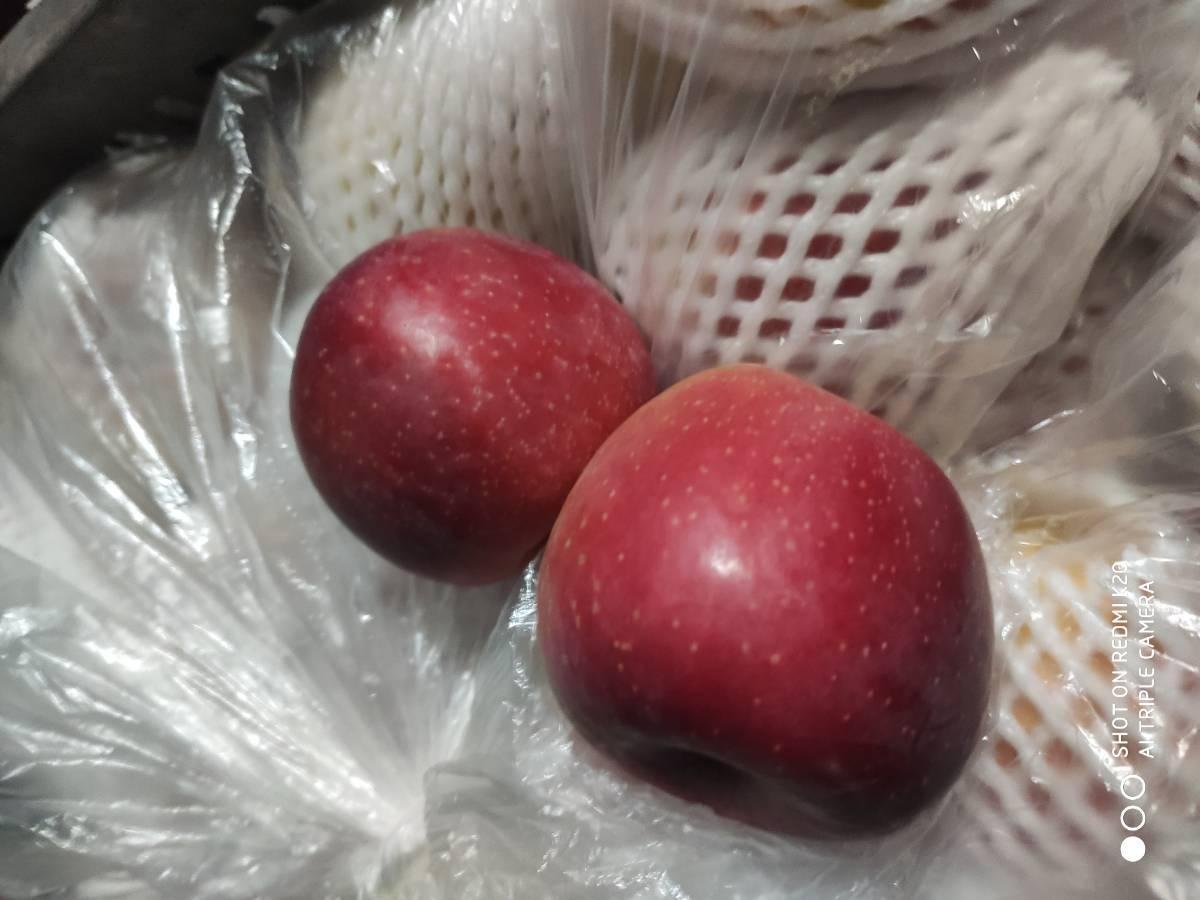apple: (527, 364, 994, 825), (281, 221, 659, 585)
